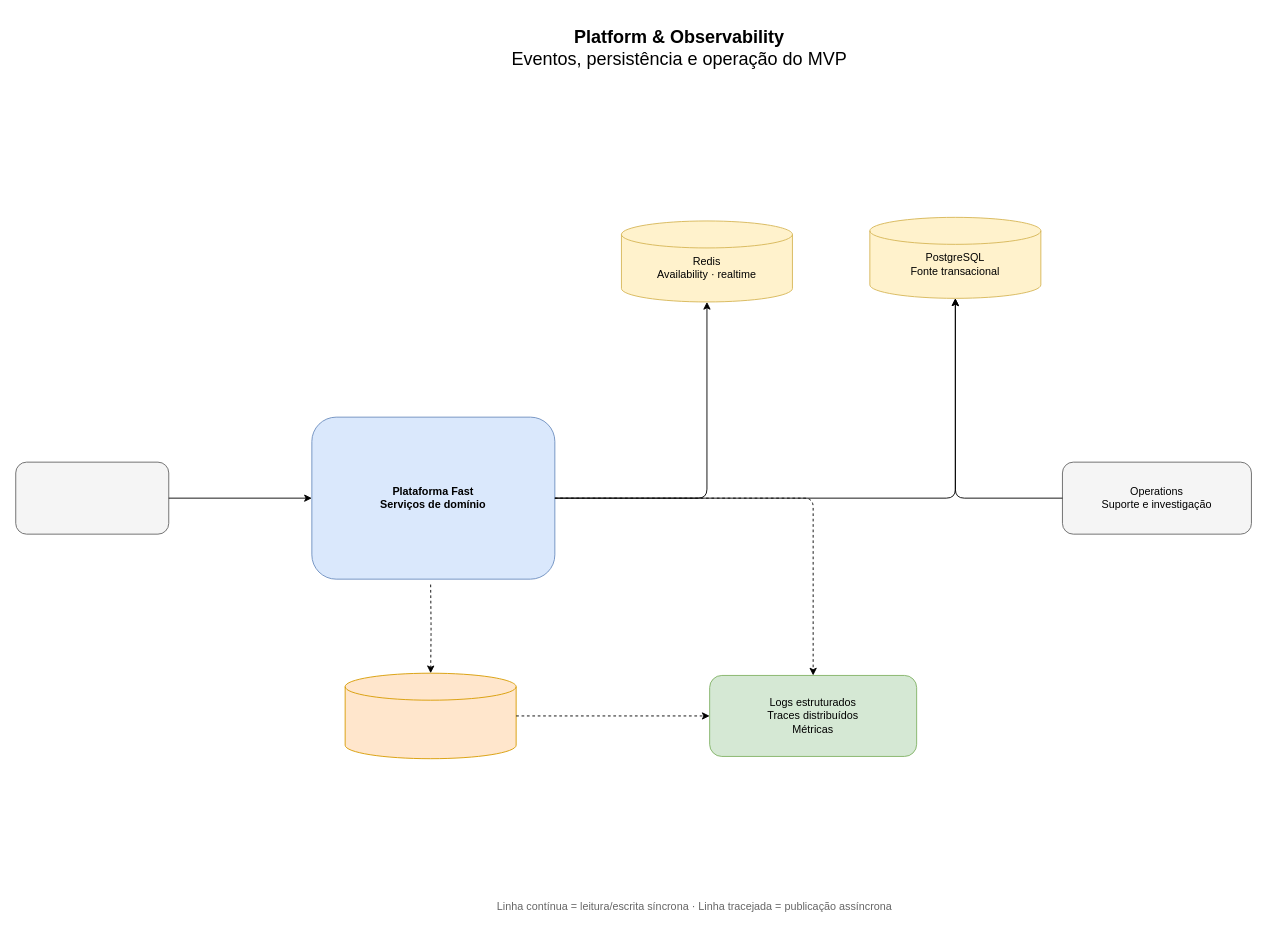
Some shapes in this 1267 by 945 pixel diagram are drawn without their labels. Each missing label, with the centre of its shape:
"Kafka Eventos de domínio" belongs at [430,715].
"Rider Dispositivo móvel" belongs at [92,497].
